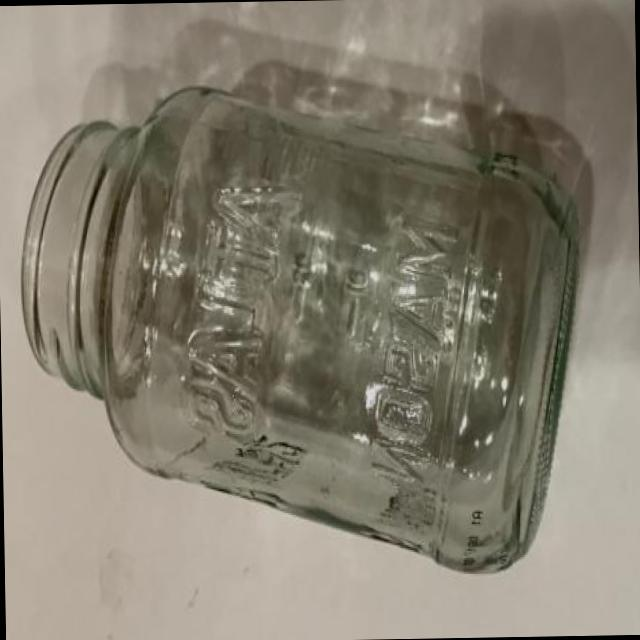chai_thuy_tinh: (20, 88, 579, 573)
